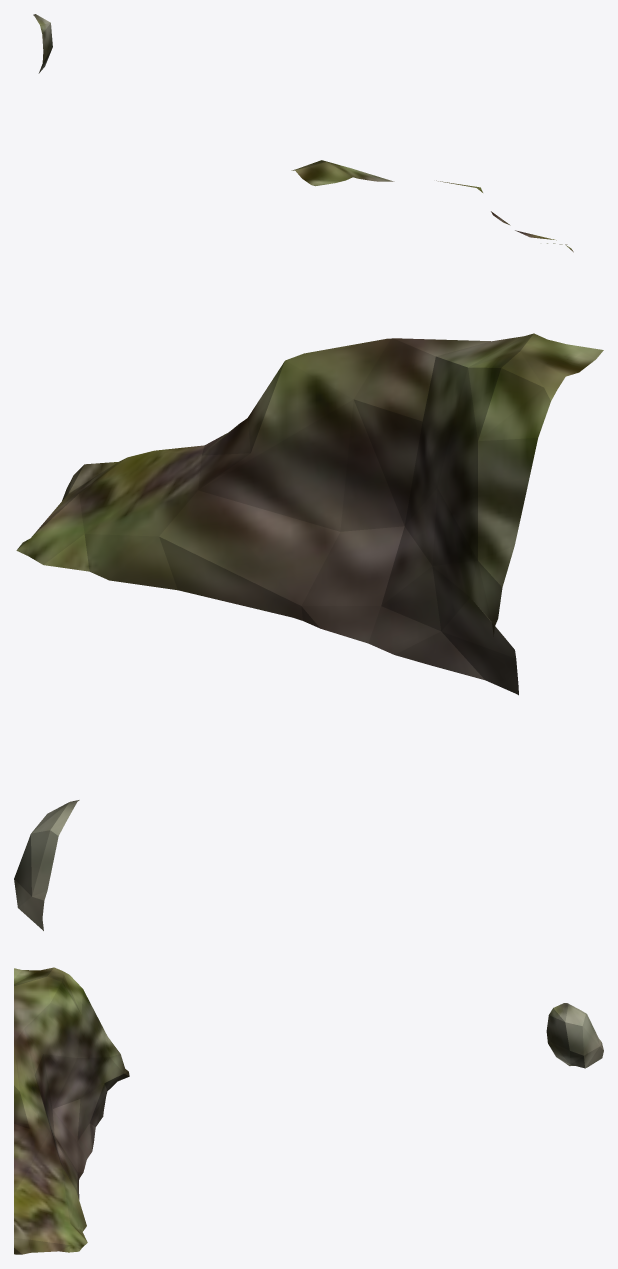
3 renders of one model, top to bottom at view 1: azimuth 30°, elevation 25°; view 2: azimuth 150°, elevation 25°; view 3: azimuth 270°, elevation 25°, orthographic. The views are drawn at different scales.
Size of the model in its own units: 0.4401 by 0.2291 by 0.7967.
1 material, 1 textured.
